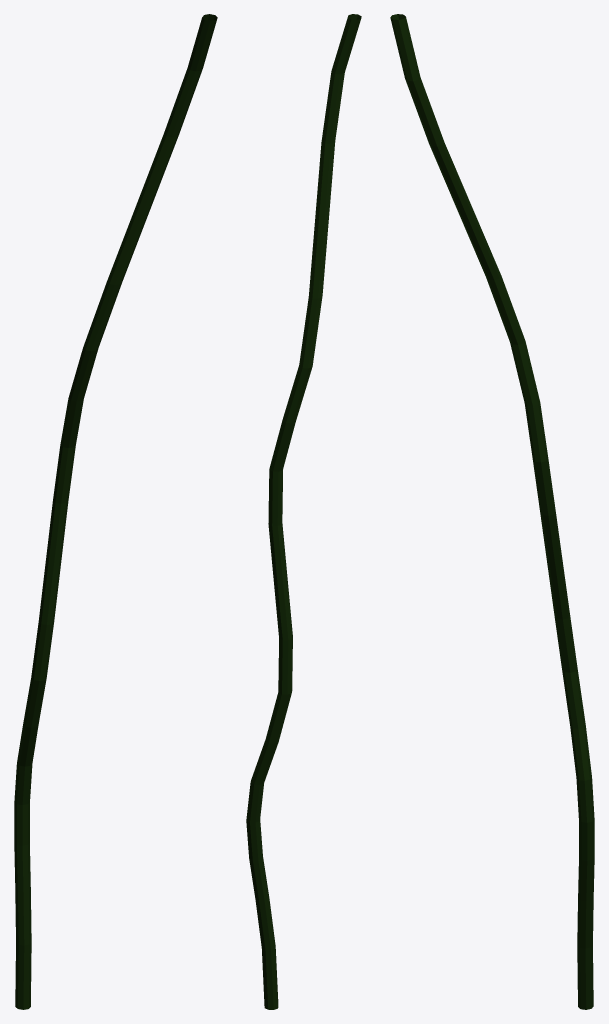
File: Pnącze2.fbx
The picture shows the model from 3 angles, left to right: view 1: azimuth 90°, elevation 25°; view 2: azimuth 150°, elevation 25°; view 3: azimuth 270°, elevation 25°; orthographic projection. The views are drawn at different scales.
Parts seen in each view (by area): view 1: BezierCurve.003; view 2: BezierCurve.003; view 3: BezierCurve.003.
Boxes of the visible parts, left/top/right/bottom form: BezierCurve.003: left=14, top=14, right=217, bottom=1009; BezierCurve.003: left=246, top=14, right=361, bottom=1009; BezierCurve.003: left=390, top=14, right=594, bottom=1009.
Size of the model in its own units: 0.2745 by 6.6 by 1.23.
